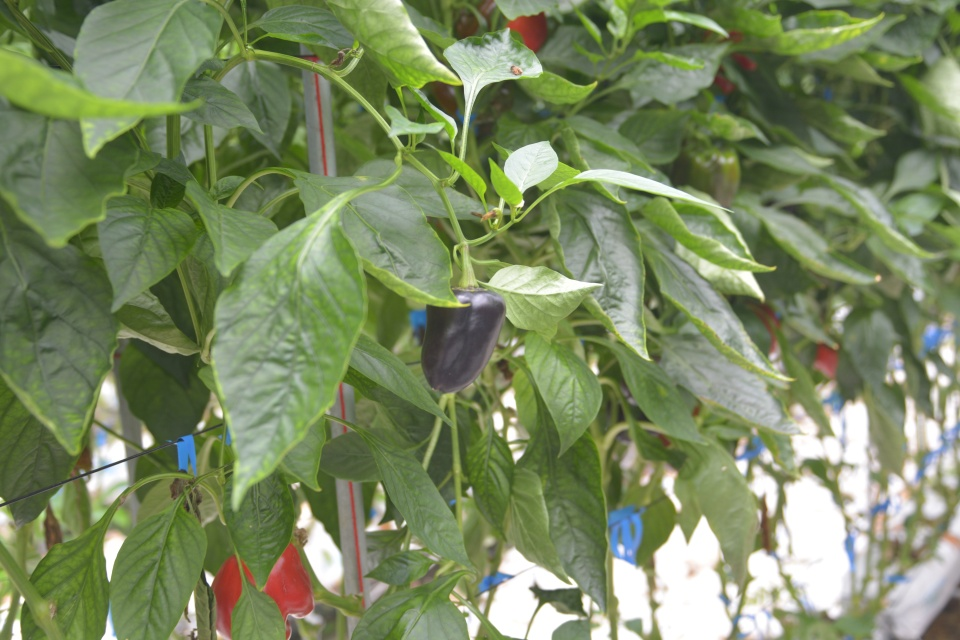fruit: (207, 540, 317, 640), (419, 283, 508, 395), (451, 0, 549, 57), (672, 142, 743, 211), (604, 377, 657, 447)
